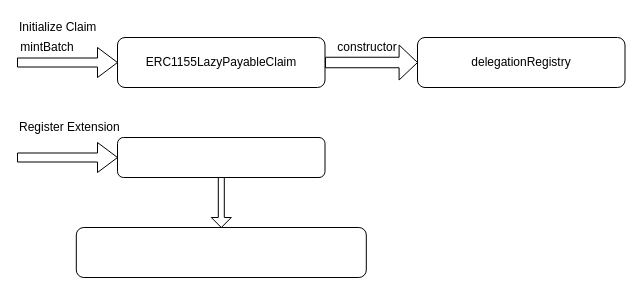
This 643x295 diagram has some shape labels left out. Each missing label, with the centre of its shape:
"ERC1155Creator(user create)" goes at (220,157).
"ERC1155CreatorImplementation(proxy contract)" goes at (220,252).
